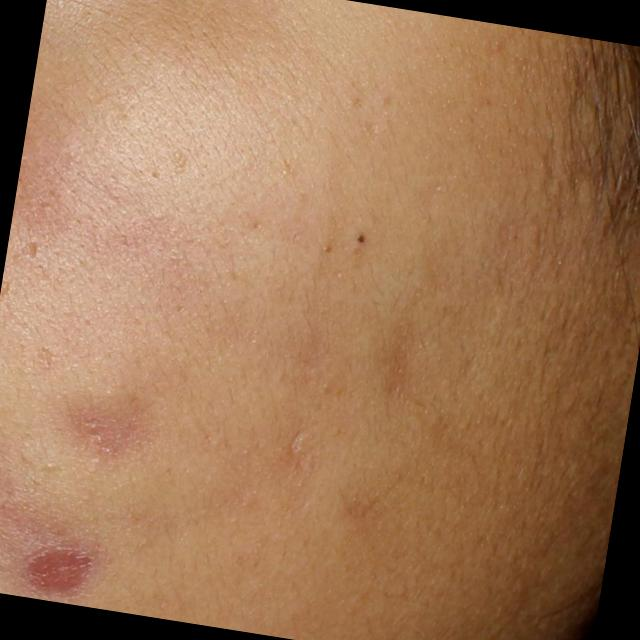blackhead: (356, 234, 364, 243)
